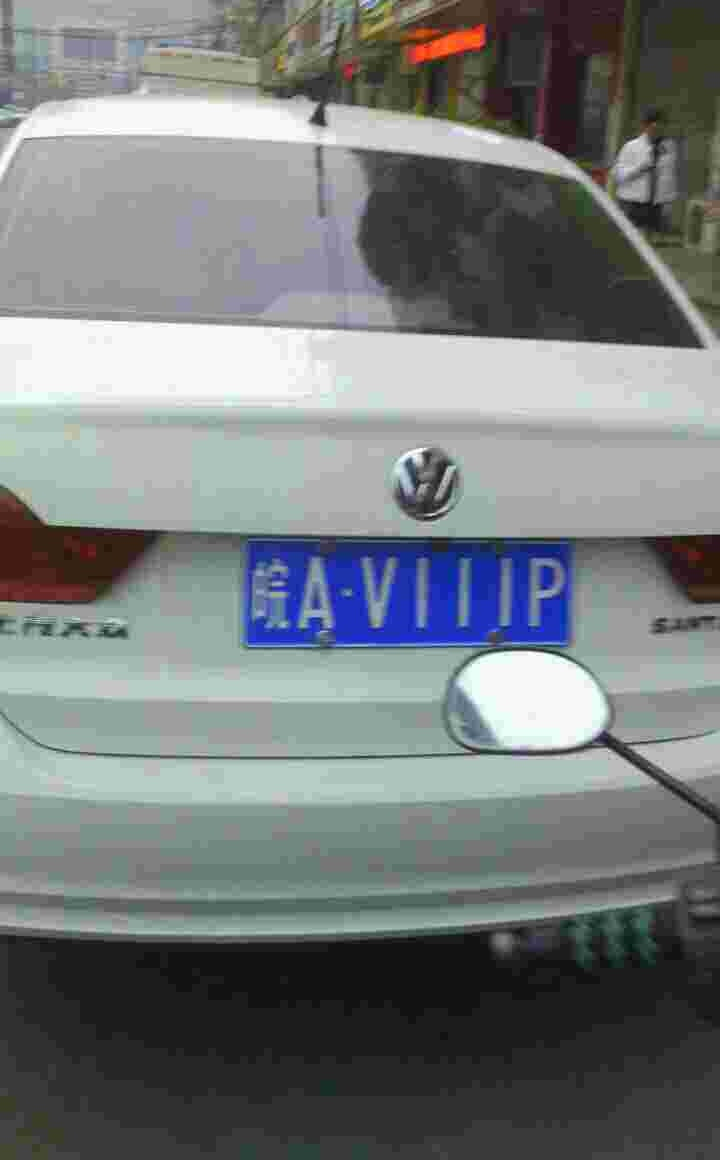license_plate: (228, 530, 585, 650)
